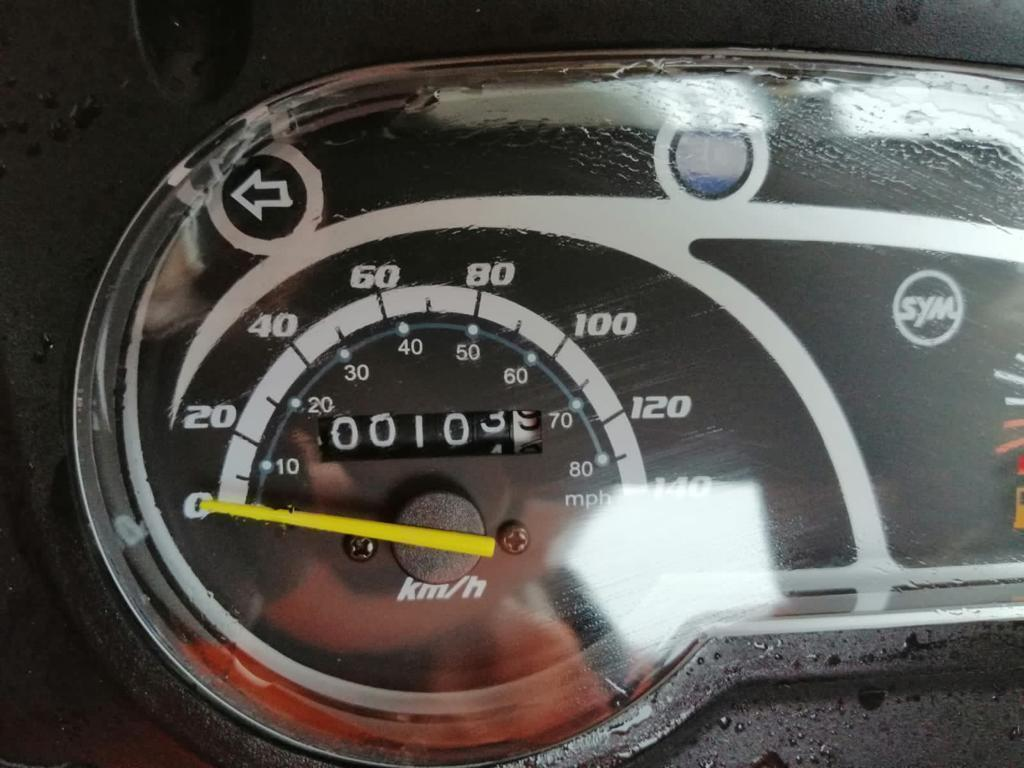0: (330, 415, 360, 454), (369, 410, 397, 451), (442, 410, 471, 448), (320, 395, 335, 412)
1: (410, 408, 428, 450)
2: (307, 396, 320, 414)
3: (478, 404, 508, 435)
7: (547, 410, 559, 430)
9: (514, 403, 543, 431)
odometer: (306, 394, 559, 463)
